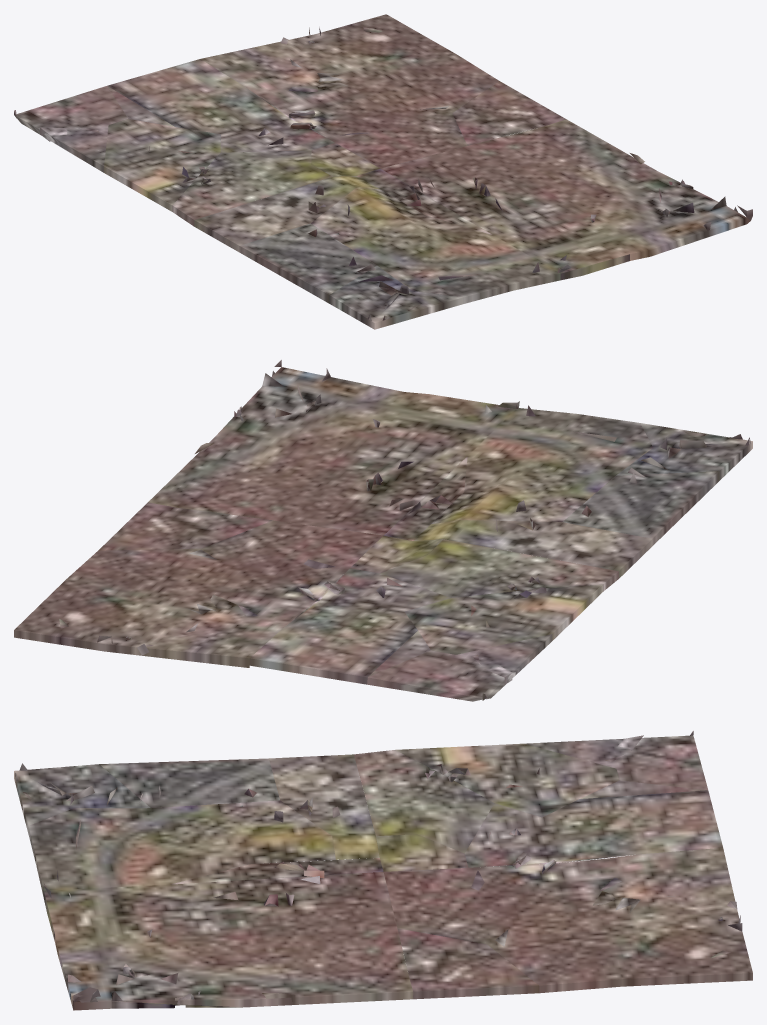
The picture shows the model from 3 angles, top to bottom: view 1: azimuth 30°, elevation 25°; view 2: azimuth 150°, elevation 25°; view 3: azimuth 270°, elevation 25°; orthographic projection. The views are drawn at different scales.
Visible parts, largest first — view 1: Mesh_0; view 2: Mesh_0; view 3: Mesh_0.
Boxes of the visible parts, left/top/right/bottom form: Mesh_0: left=14, top=14, right=752, bottom=329; Mesh_0: left=14, top=360, right=752, bottom=701; Mesh_0: left=14, top=731, right=752, bottom=1010.
Size of the model in its own units: 2161 by 149 by 2637.
1 material, 1 textured.
